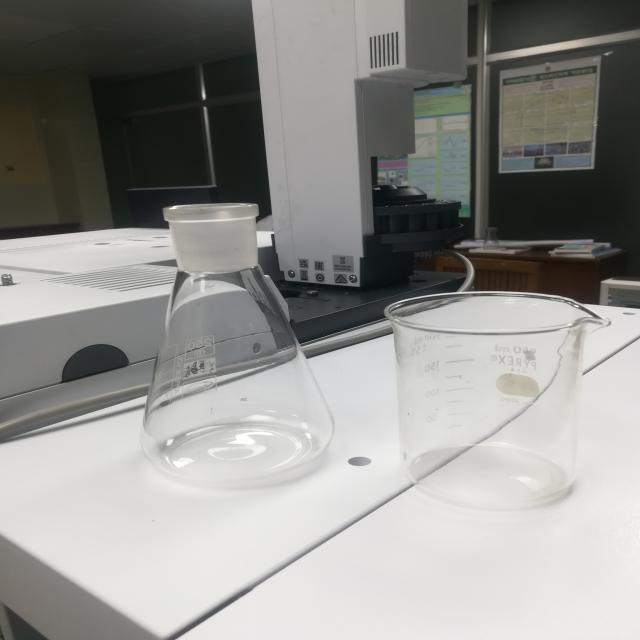Beaker: (375, 266, 617, 534)
Conical_Flask: (125, 150, 353, 511)
